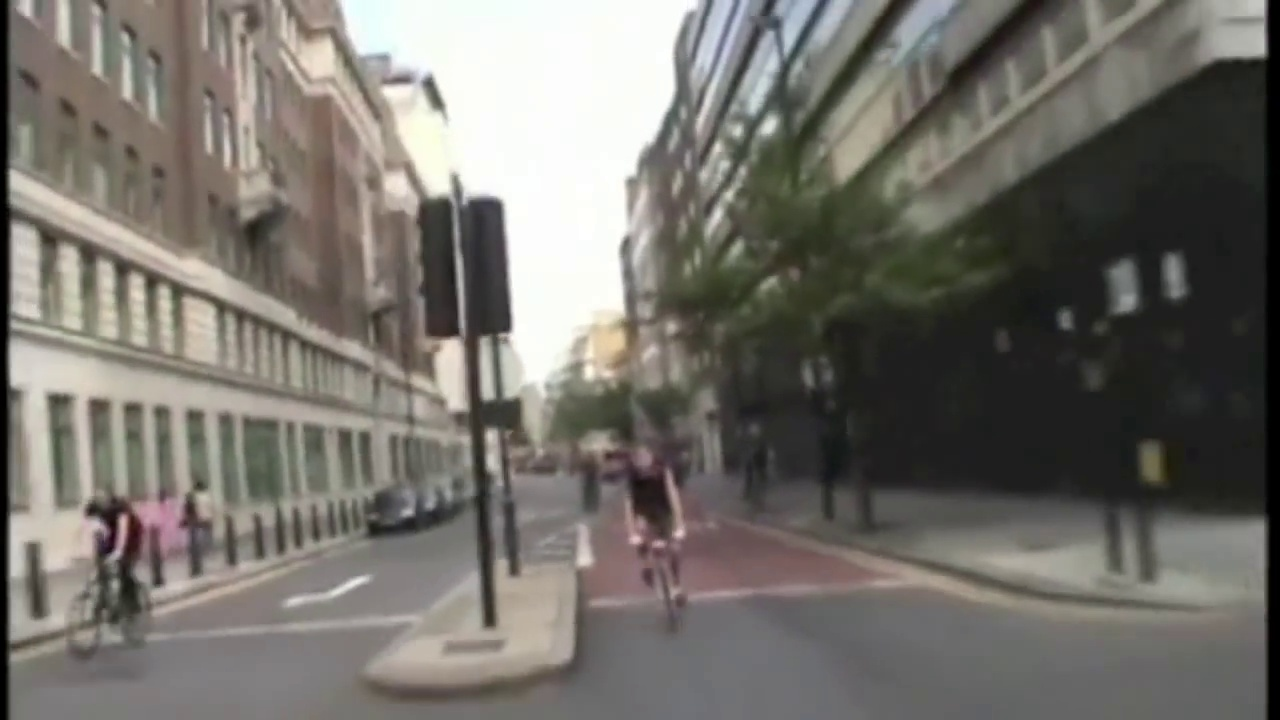cyclist_front: (618, 438, 697, 633), (72, 485, 155, 649)
